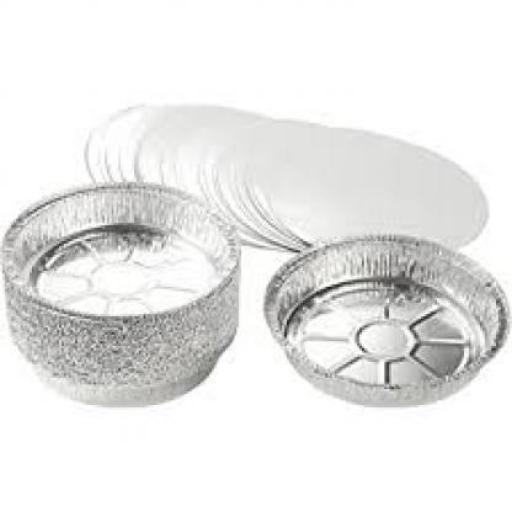metal: (0, 182, 235, 406), (262, 232, 505, 406), (266, 123, 485, 246), (88, 104, 232, 200), (214, 114, 303, 245), (139, 110, 250, 212)
